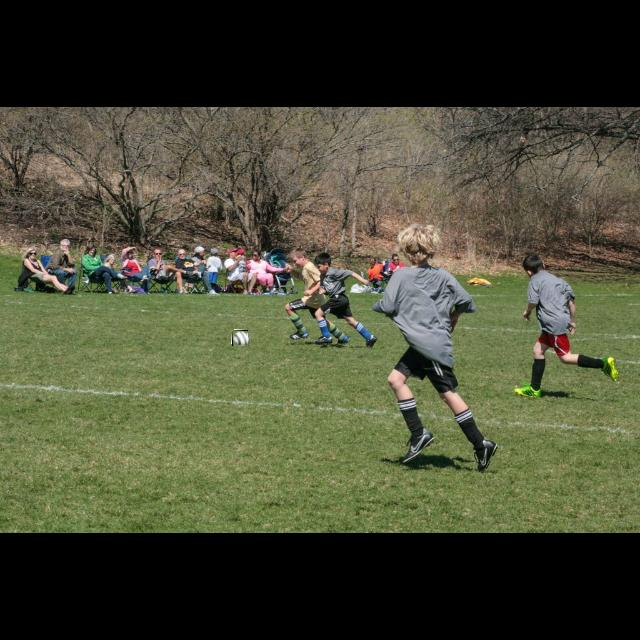Football: (232, 330, 248, 346)
